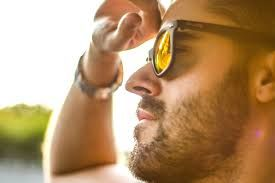no-mask: (113, 1, 269, 183)
